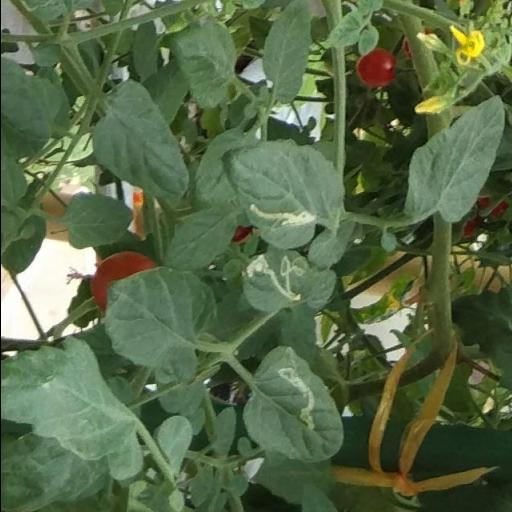disease_tomato: (220, 144, 348, 252), (240, 343, 344, 461), (240, 246, 316, 314)
